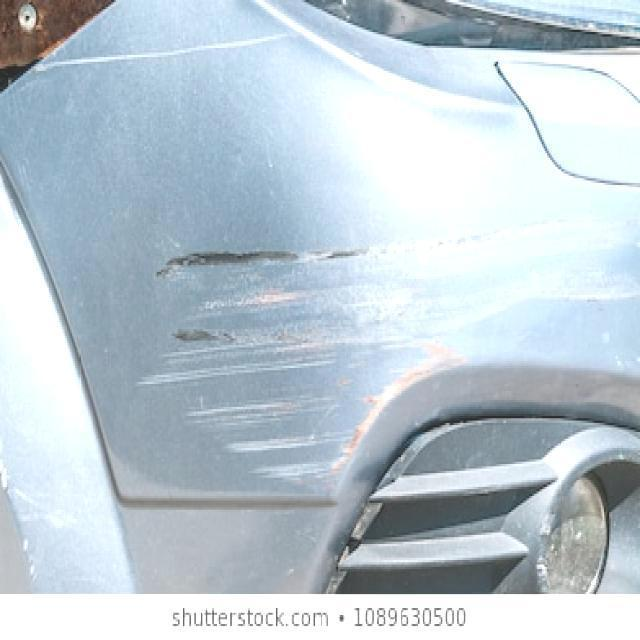minor: (59, 46, 243, 65)
moderate: (128, 225, 640, 499)
